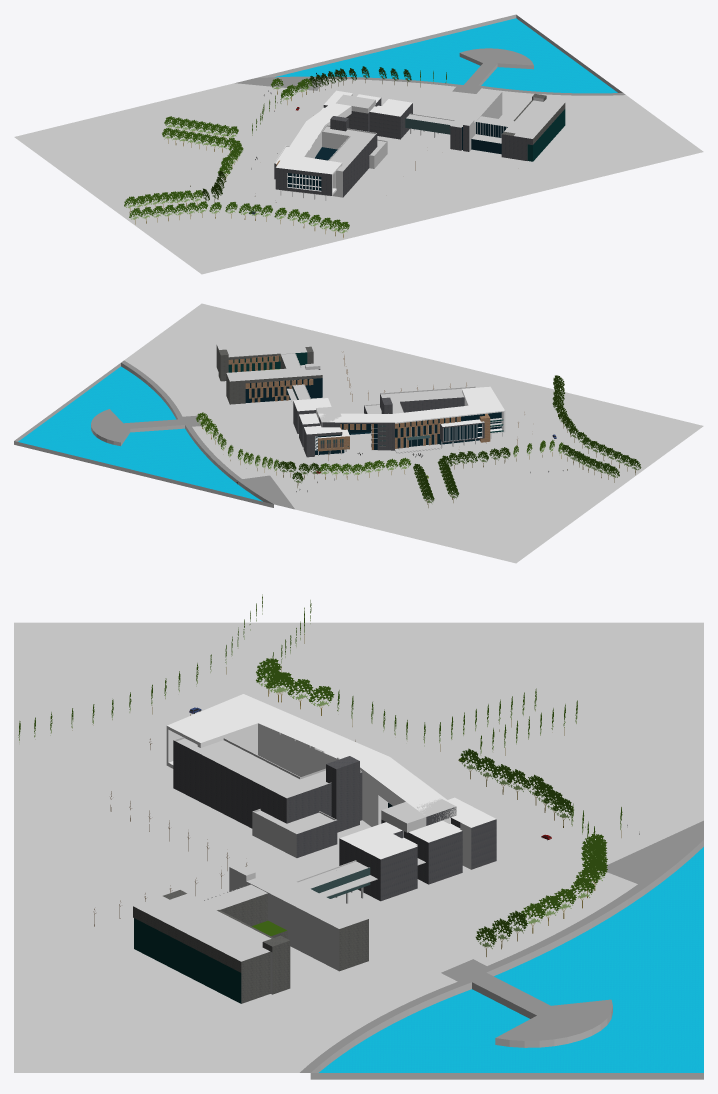
The picture shows the model from 3 angles, top to bottom: view 1: azimuth 30°, elevation 25°; view 2: azimuth 150°, elevation 25°; view 3: azimuth 270°, elevation 25°; orthographic projection. The views are drawn at different scales.
Parts seen in each view (by area): view 1: _(Loose Entity), _G-Object.089 (Loose Mesh), _G-Object.022 (Loose Mesh), G-Object.020, _C-Group#18 (Loose Mesh), _C-Group#5 (Loose Mesh), G-Object.084; view 2: _(Loose Entity), _G-Object.089 (Loose Mesh), _G-Object.022 (Loose Mesh), _C-Group#18 (Loose Mesh), G-Object.020, _G-Object.019 (Loose Mesh); view 3: _(Loose Entity), _G-Object.089 (Loose Mesh), _G-Object.022 (Loose Mesh), G-Object.020, _C-Group#18 (Loose Mesh), G-Object.021, G-Object.085, G-Object.084, _C-Group#5 (Loose Mesh).
Part boxes in pixels (box(x1,y1,x2,y2)): _(Loose Entity): box(14, 14, 703, 274); _G-Object.089 (Loose Mesh): box(449, 88, 565, 161); _G-Object.022 (Loose Mesh): box(275, 95, 351, 196); G-Object.020: box(322, 125, 377, 197); _C-Group#18 (Loose Mesh): box(321, 90, 412, 139); _C-Group#5 (Loose Mesh): box(405, 113, 454, 134); G-Object.084: box(336, 94, 375, 113); _(Loose Entity): box(14, 303, 703, 563); _G-Object.089 (Loose Mesh): box(216, 338, 322, 404); _G-Object.022 (Loose Mesh): box(318, 386, 505, 450); _C-Group#18 (Loose Mesh): box(293, 398, 349, 457); G-Object.020: box(380, 386, 476, 413); _G-Object.019 (Loose Mesh): box(440, 419, 484, 442); _(Loose Entity): box(14, 622, 703, 1079); _G-Object.089 (Loose Mesh): box(133, 862, 368, 1003); _G-Object.022 (Loose Mesh): box(166, 694, 455, 826); G-Object.020: box(173, 737, 362, 828); _C-Group#18 (Loose Mesh): box(339, 797, 496, 901); G-Object.021: box(252, 809, 337, 857); G-Object.085: box(326, 756, 359, 832); G-Object.084: box(381, 798, 456, 832); _C-Group#5 (Loose Mesh): box(296, 860, 370, 898).
Size of the model in its own units: 423 by 32.73 by 271.
Materials: 63 (5 with a texture image).
